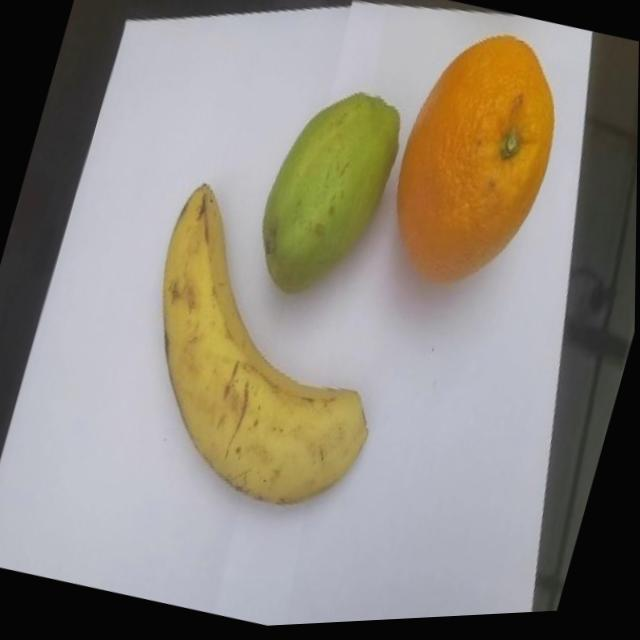Banana: (105, 168, 432, 534)
Orange: (375, 19, 582, 310)
